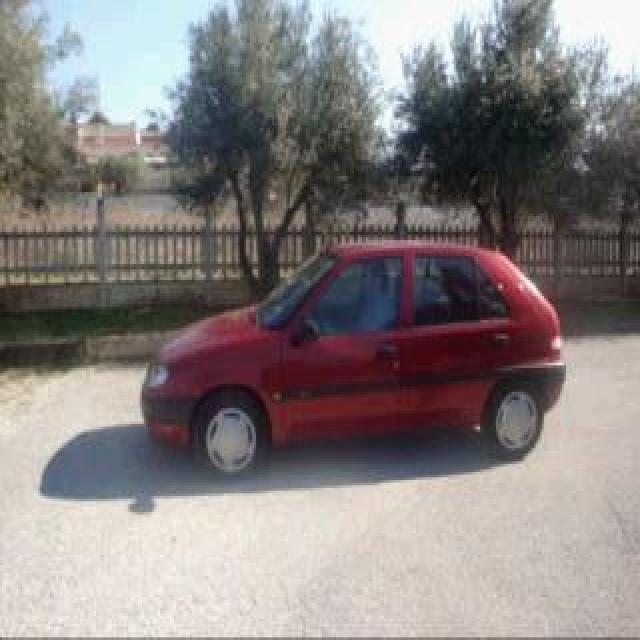other: (135, 207, 602, 497)
